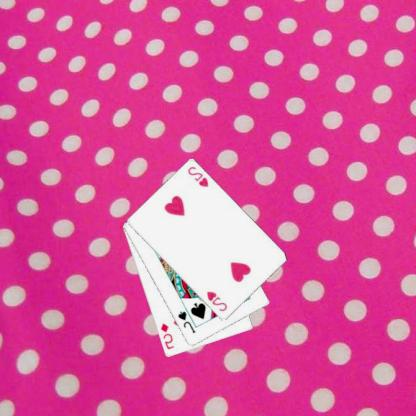2H: (187, 164, 212, 189), (206, 289, 230, 313)
5D: (160, 320, 177, 351)
JS: (177, 308, 199, 334)
